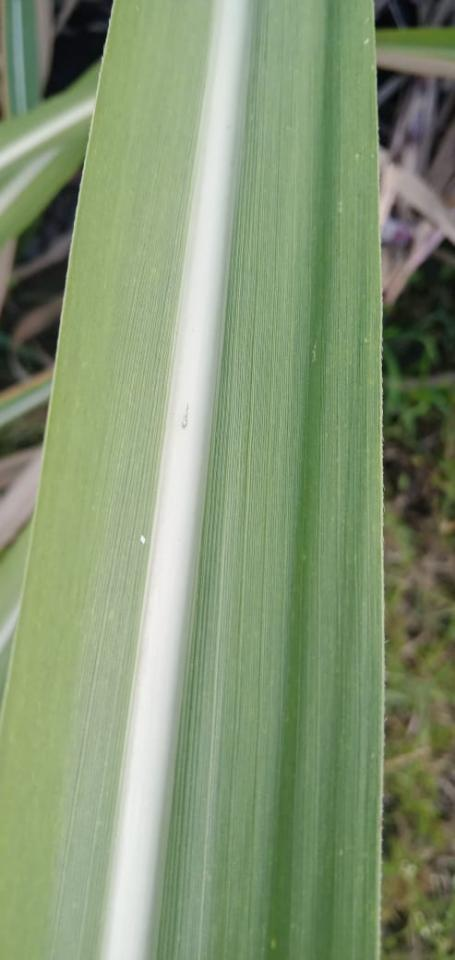Healthy: (0, 0, 382, 959)
